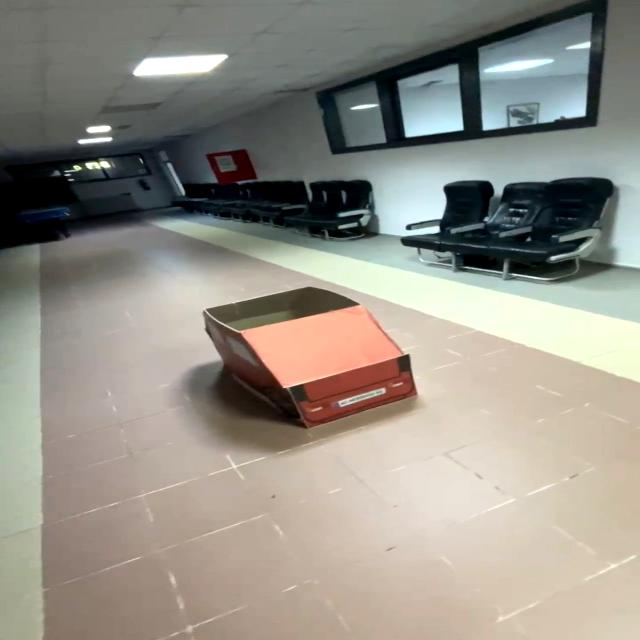red_car: (169, 270, 452, 438)
